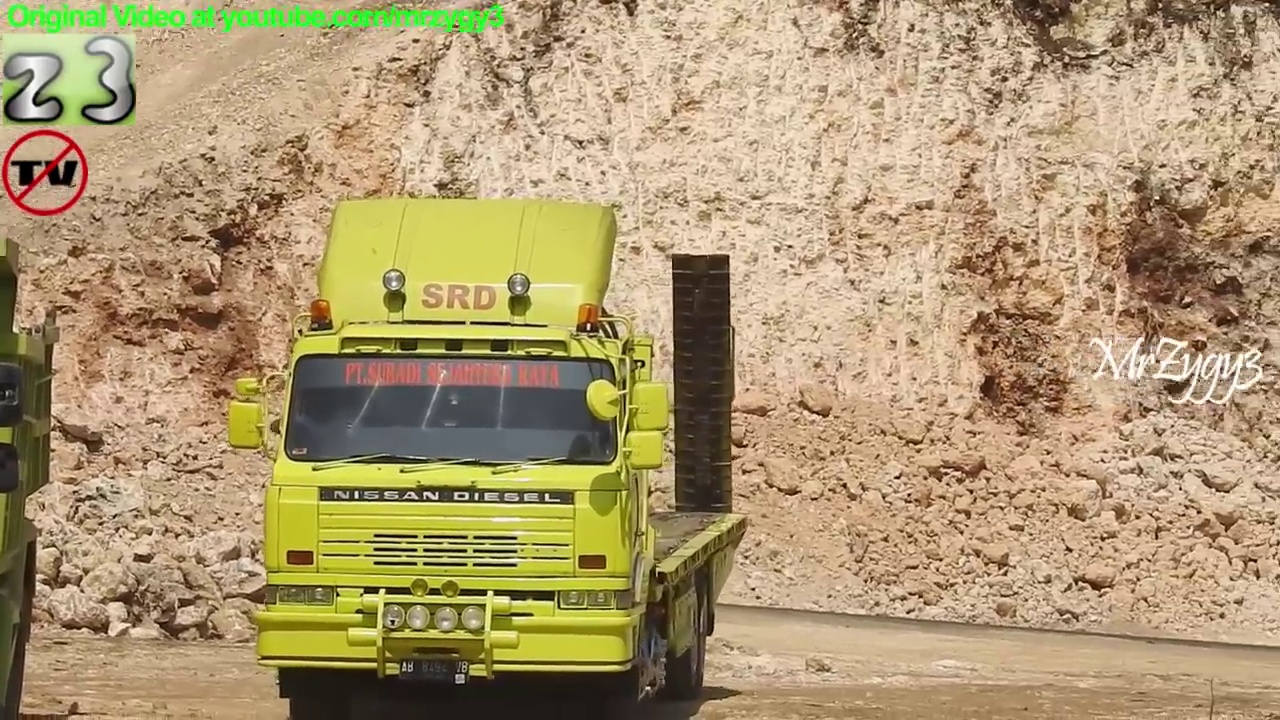truck: (219, 188, 761, 720), (1, 227, 69, 720)
